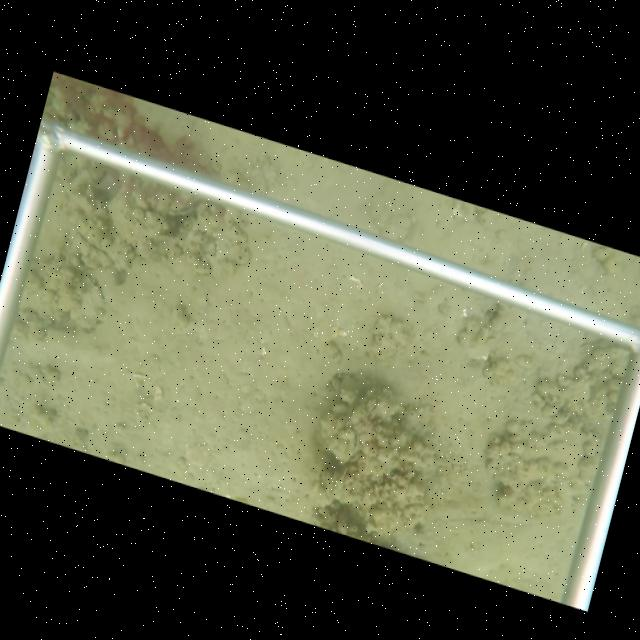Oyster-Indeterminate: (34, 257, 107, 336)
Oyster-Open: (166, 191, 196, 216)
